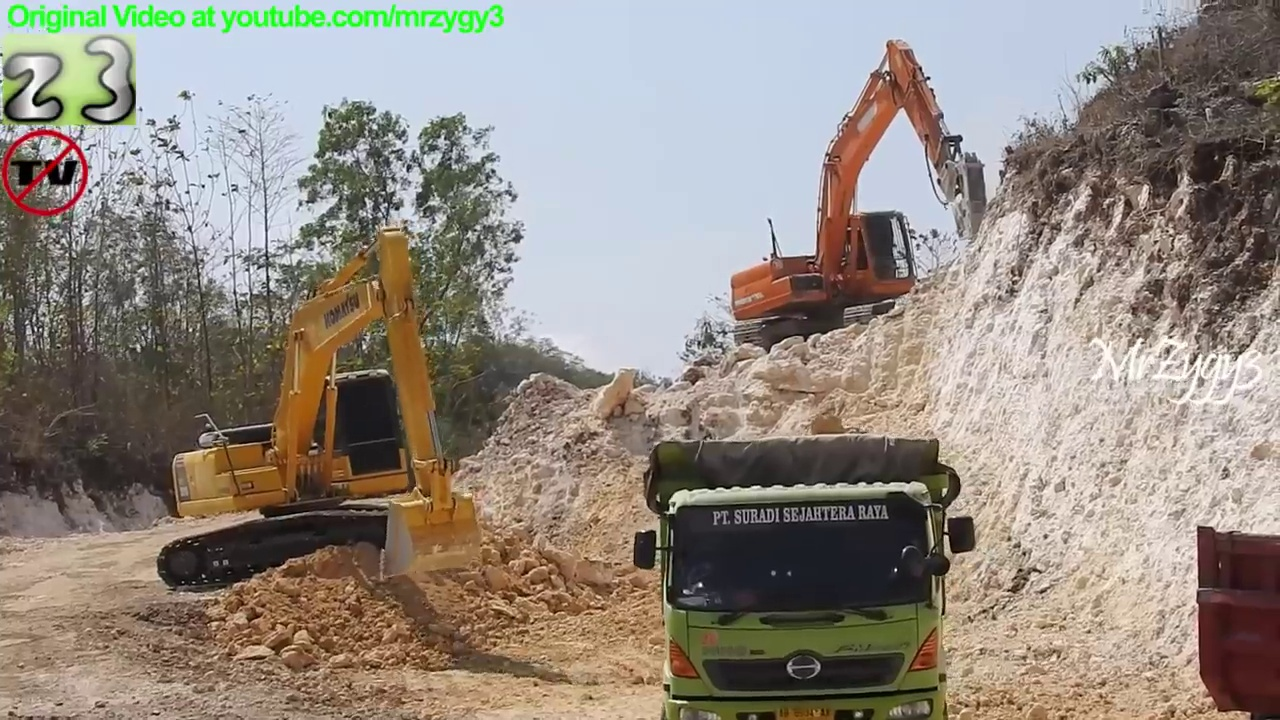excavator: (153, 223, 489, 596), (720, 31, 998, 365)
truck: (629, 426, 984, 720), (1191, 520, 1280, 720)
